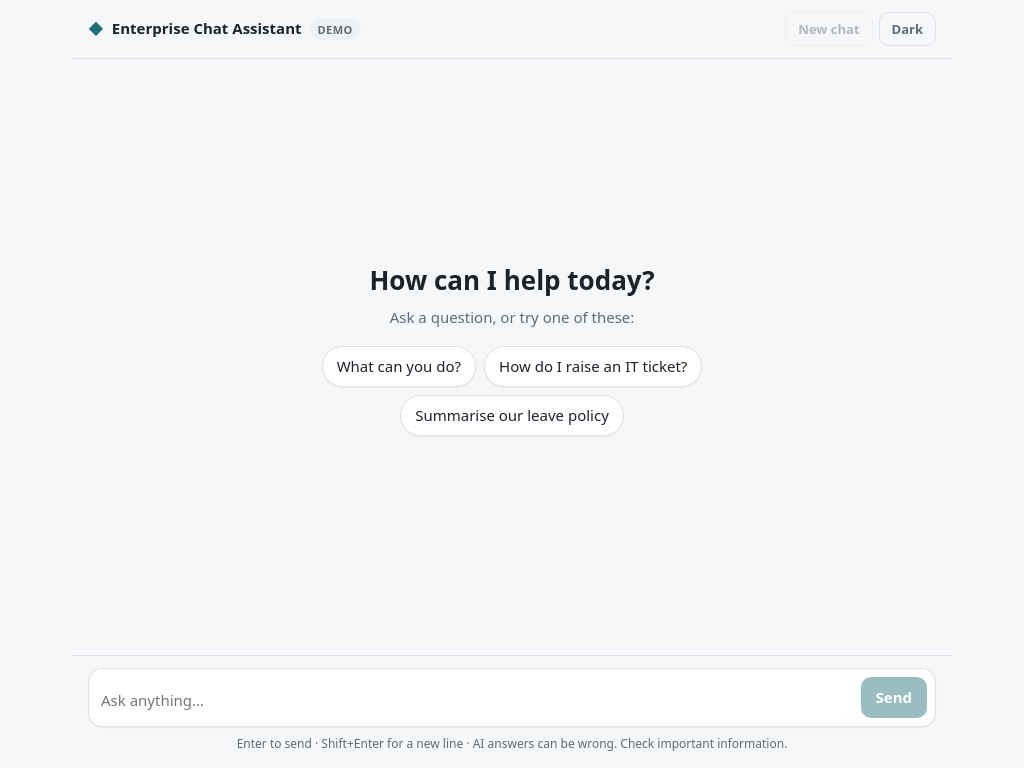
it: App › sends a message with Enter and renders the streamed reply
Type "Hi bot" into the text box named "Message" at (475, 701), box x1=97 y1=683 x2=852 y2=718
Then press Enter
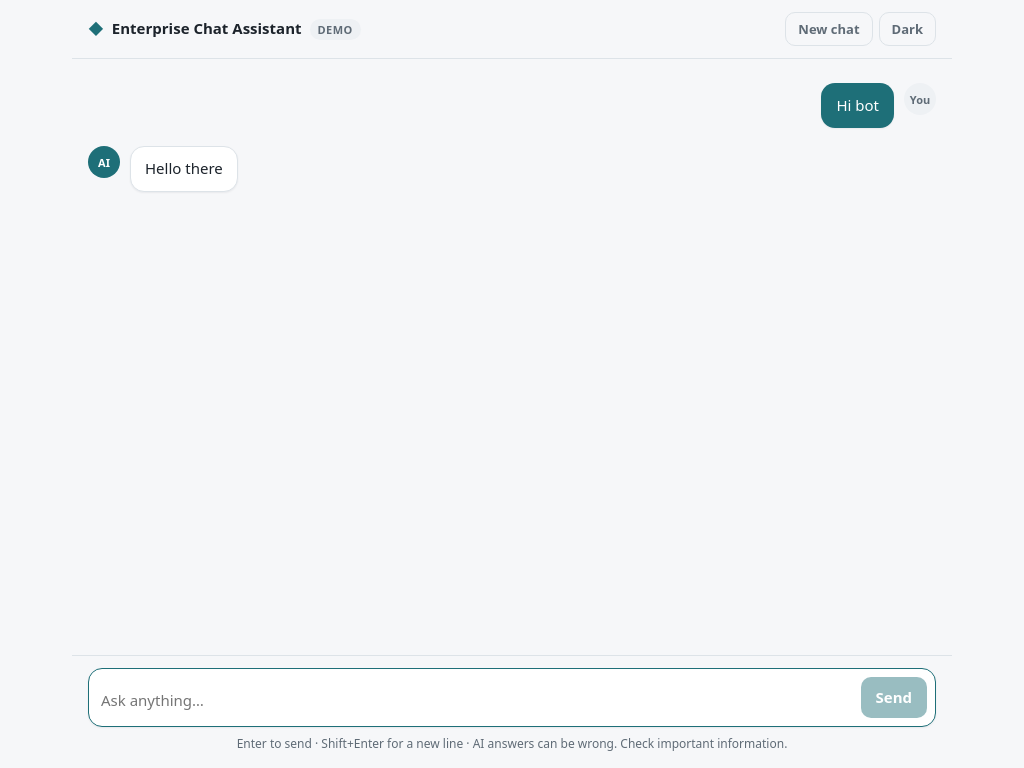
Result: the text "Hello there" is shown at x1=145 y1=157 x2=223 y2=181
Result: the element with test id "msg-user" shows "Hi bot" at x1=836 y1=95 x2=879 y2=115
